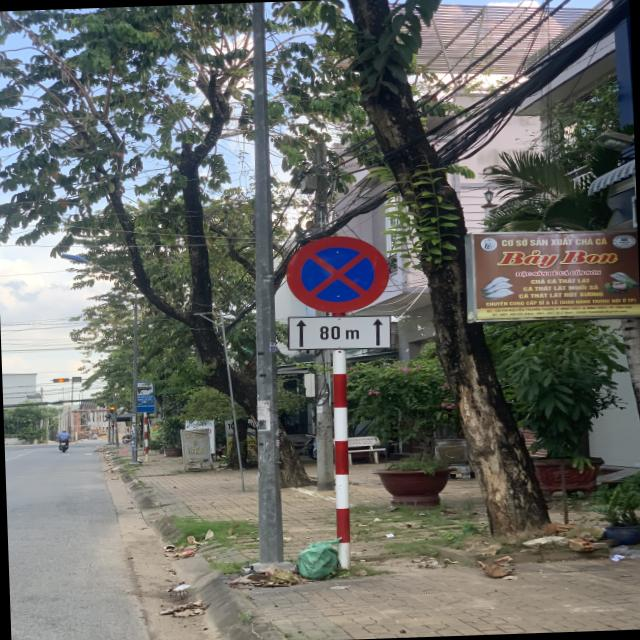Cam_Dung_Va_Dau_Xe: (287, 234, 389, 314)
